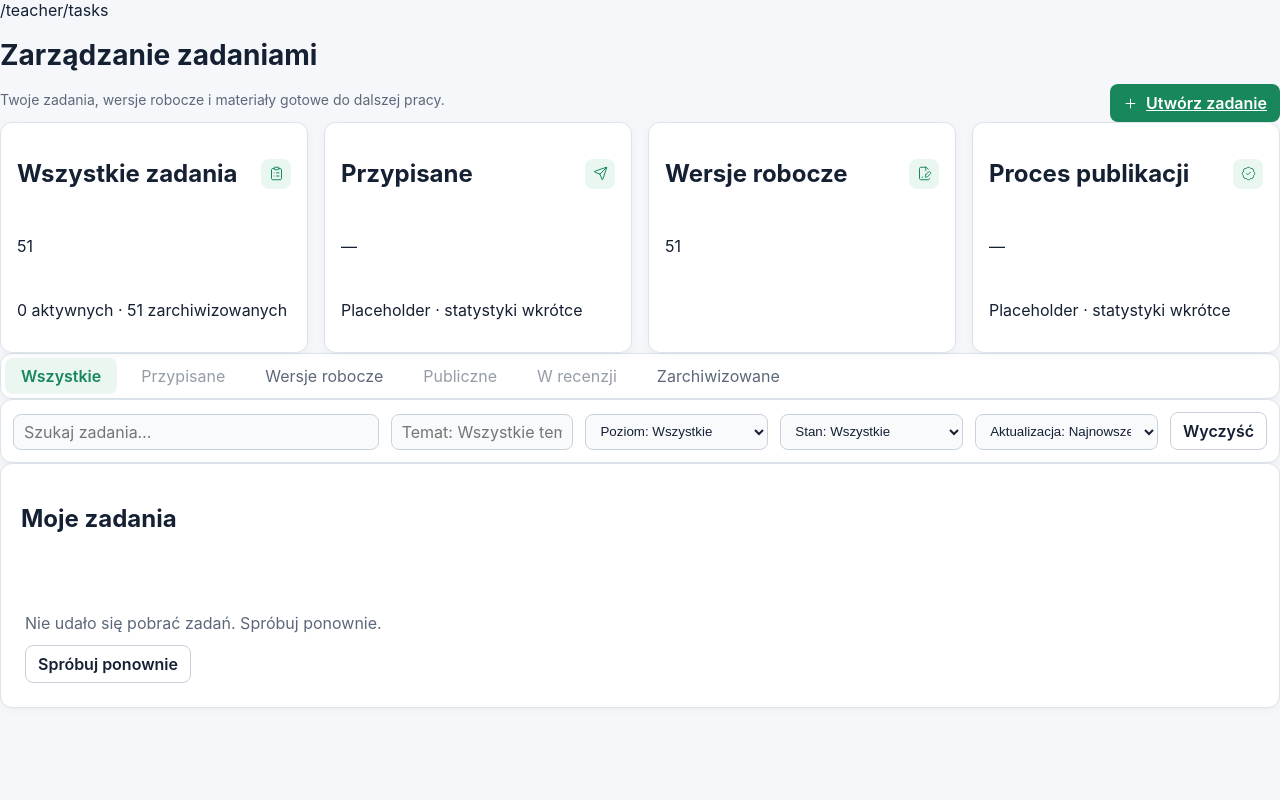
shows an API error and recovers after retry
This screenshot has width=1280, height=800.
expect the message shows "Nie udało się pobrać zadań": met, box [25, 613, 382, 633]
Click the button "Spróbuj ponownie" at (108, 664), box [25, 645, 191, 683]
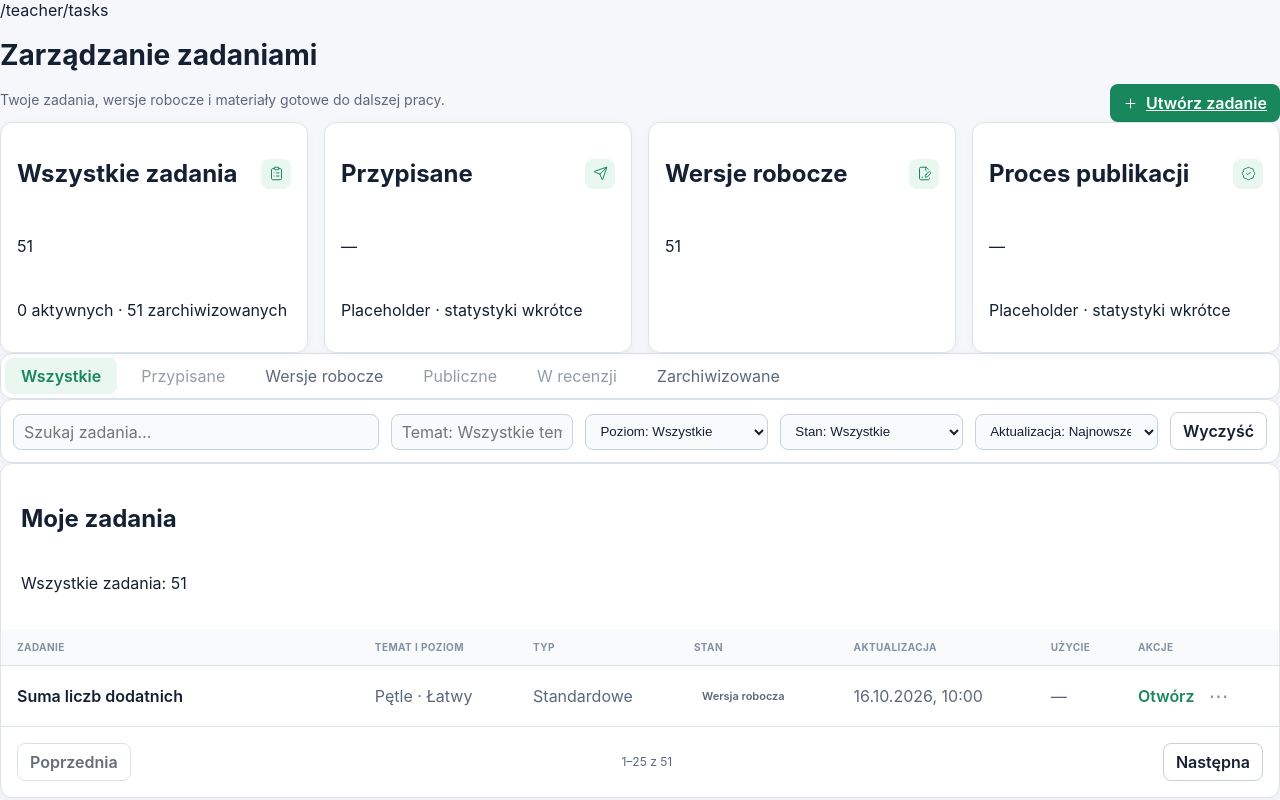
expect the table is shown: met, box [1, 629, 1279, 726]
expect the message "Nie udało się pobrać zadań. Spróbuj ponownie. Spróbuj ponownie" is gone: met
